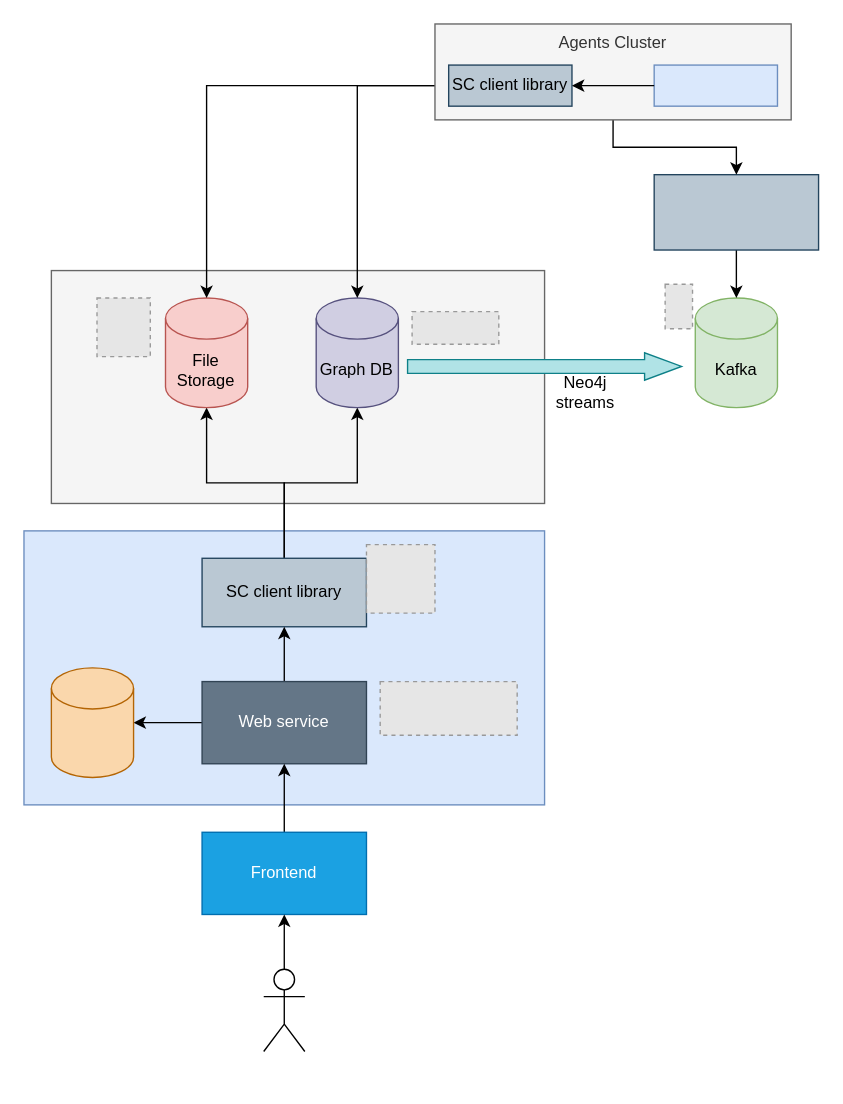
The diagram is 843 pixels wide and 1104 high, and some of its shapes have lost their labels. Grey dashed boxes stand in for pictures. The shapes that lost their labels are listed below. From the top down, each one's centre as x and y in pixels, then its label:
(715,85): Agent 1
(736,211): Event Manager
(92,722): Users DB
(283,1009): User
